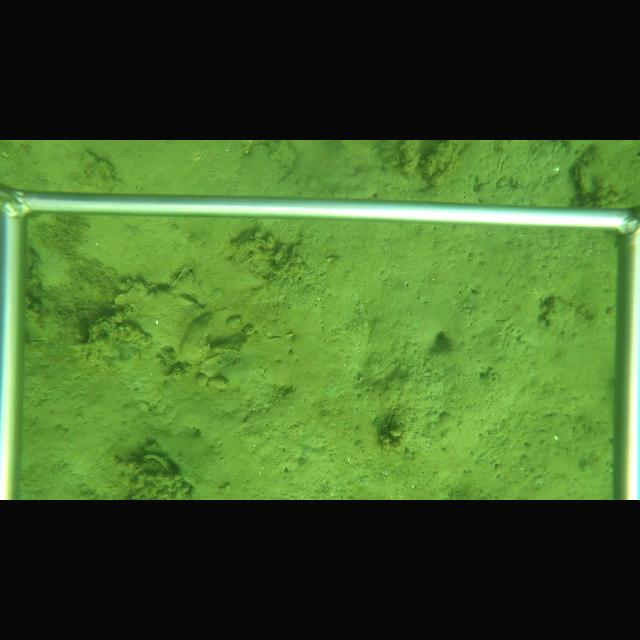Oyster-Closed: (576, 160, 594, 196), (141, 453, 173, 471)
Oyster-Open: (169, 266, 187, 287)
